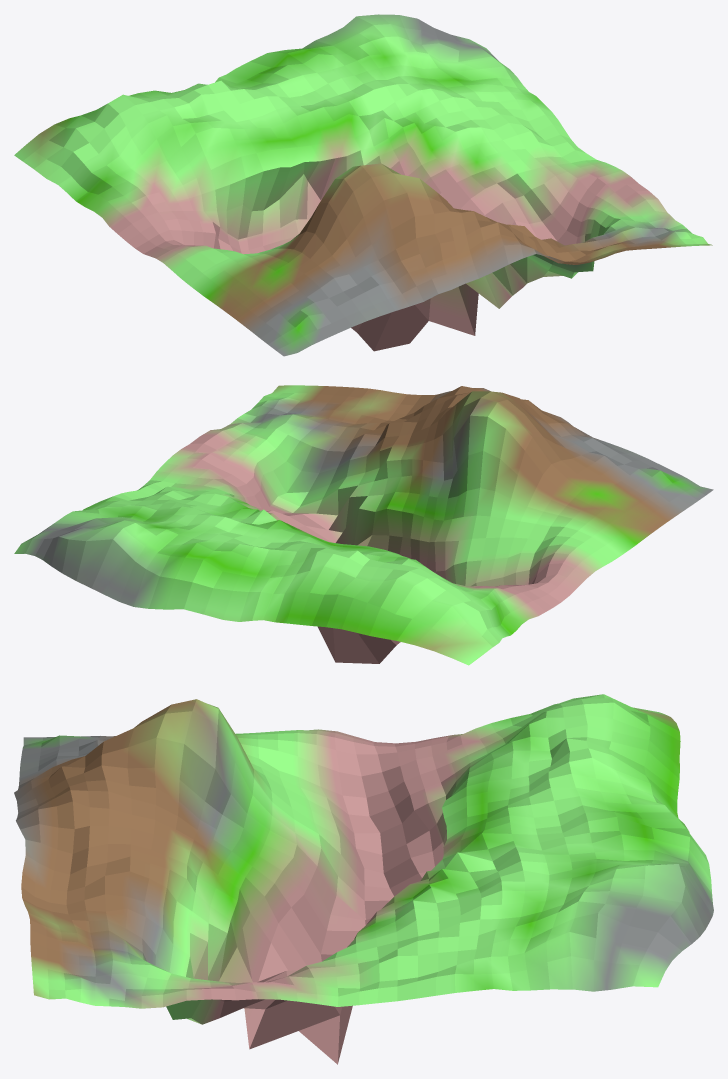
The model's file is newTestMap.obj.
3 renders of one model, top to bottom at view 1: azimuth 30°, elevation 25°; view 2: azimuth 150°, elevation 25°; view 3: azimuth 270°, elevation 25°, orthographic. The views are drawn at different scales.
Visible parts, largest first — view 1: Plane.001; view 2: Plane.001; view 3: Plane.001.
Part boxes in pixels (x1,y1,x2,y2): Plane.001: [14, 14, 712, 356]; Plane.001: [14, 385, 713, 665]; Plane.001: [14, 694, 713, 1064].
Bounding box in the file's own units: 403 × 204 × 428.
1 material, 1 textured.
